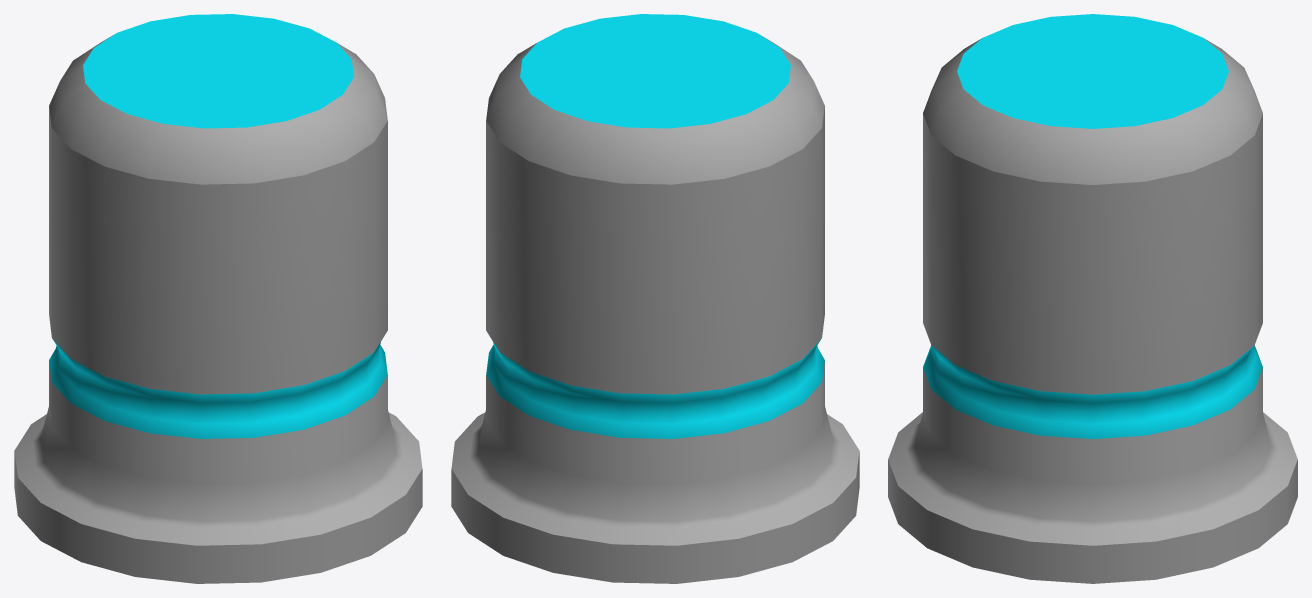
File: CapacitorObjective_Pickup.fbx
3 renders of one model, left to right at view 1: azimuth 30°, elevation 25°; view 2: azimuth 150°, elevation 25°; view 3: azimuth 270°, elevation 25°, orthographic.
Parts seen in each view (by area): view 1: OBJECTIVE_02; view 2: OBJECTIVE_02; view 3: OBJECTIVE_02.
Part boxes in pixels (x1,y1,x2,y2): OBJECTIVE_02: (14, 14, 422, 583); OBJECTIVE_02: (451, 14, 859, 583); OBJECTIVE_02: (888, 14, 1297, 583).
Size of the model in its own units: 138 by 158 by 138.
